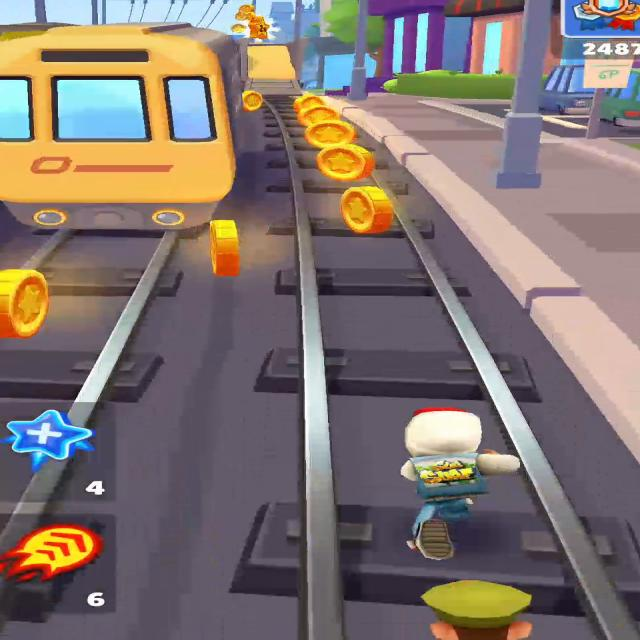climber: (245, 45, 301, 97)
train: (0, 23, 261, 231)
